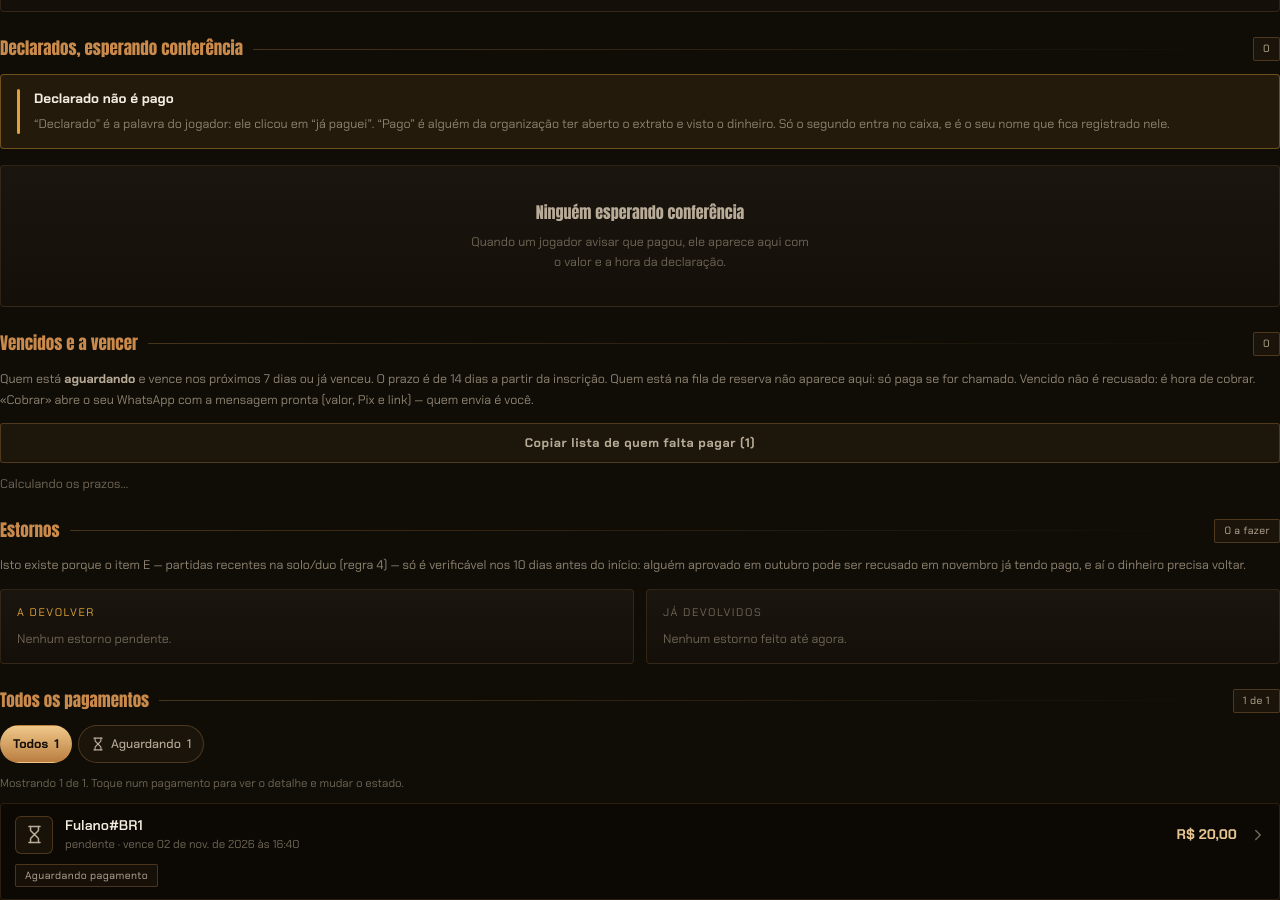
Test: a folha do pagamento no celular › troca recusada pelo servidor: o motivo aparece DENTRO da folha, que cobre o aviso do topo
(page scrolled)
Click the button with aria-label "Abrir o pagamento de Fulano#BR1".
click(104, 825)  # box left=65, top=816, right=1164, bottom=834
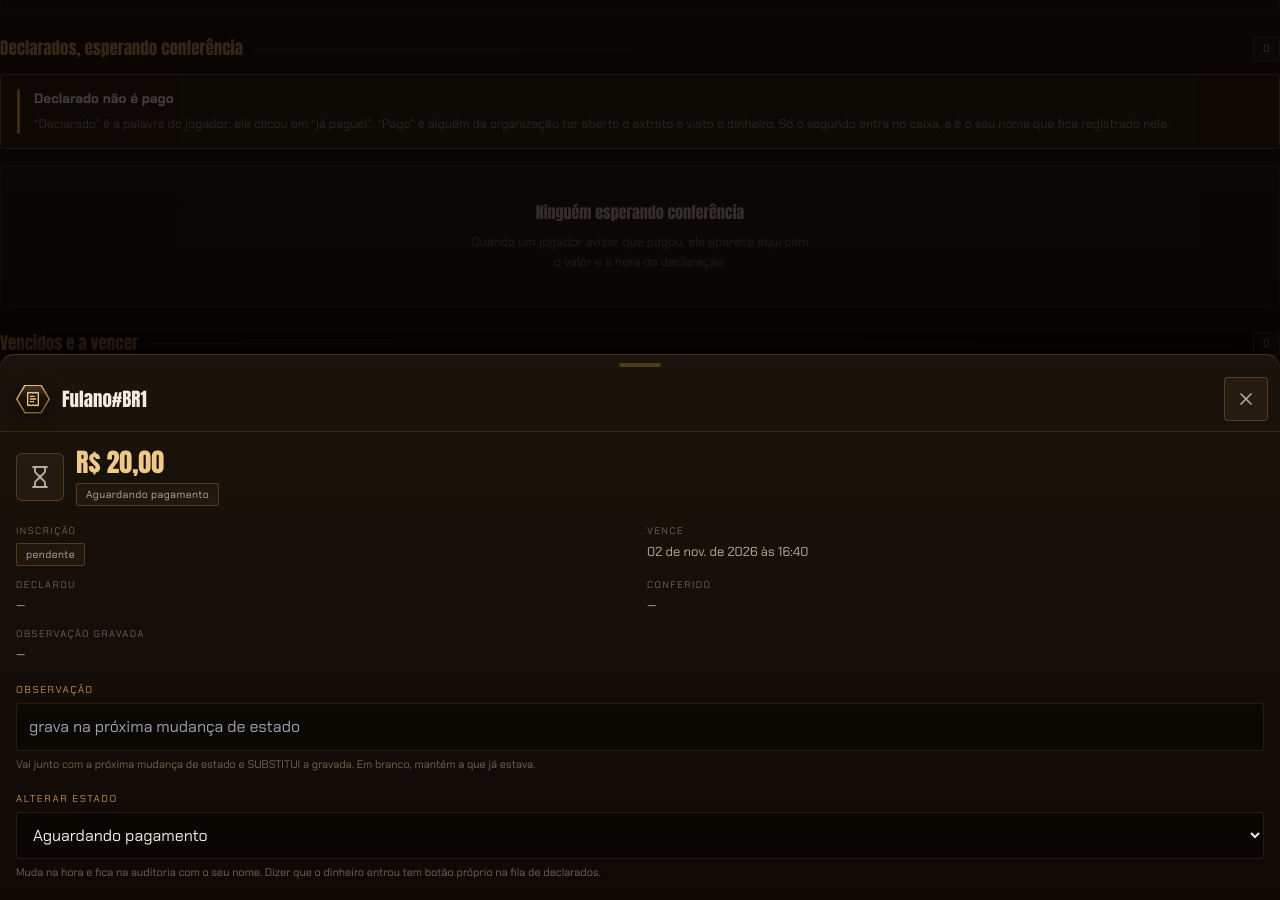
Select "Estorno devido" in the dropdown named "Estado do pagamento de Fulano#BR1" at [640, 835], box left=16, top=812, right=1264, bottom=858
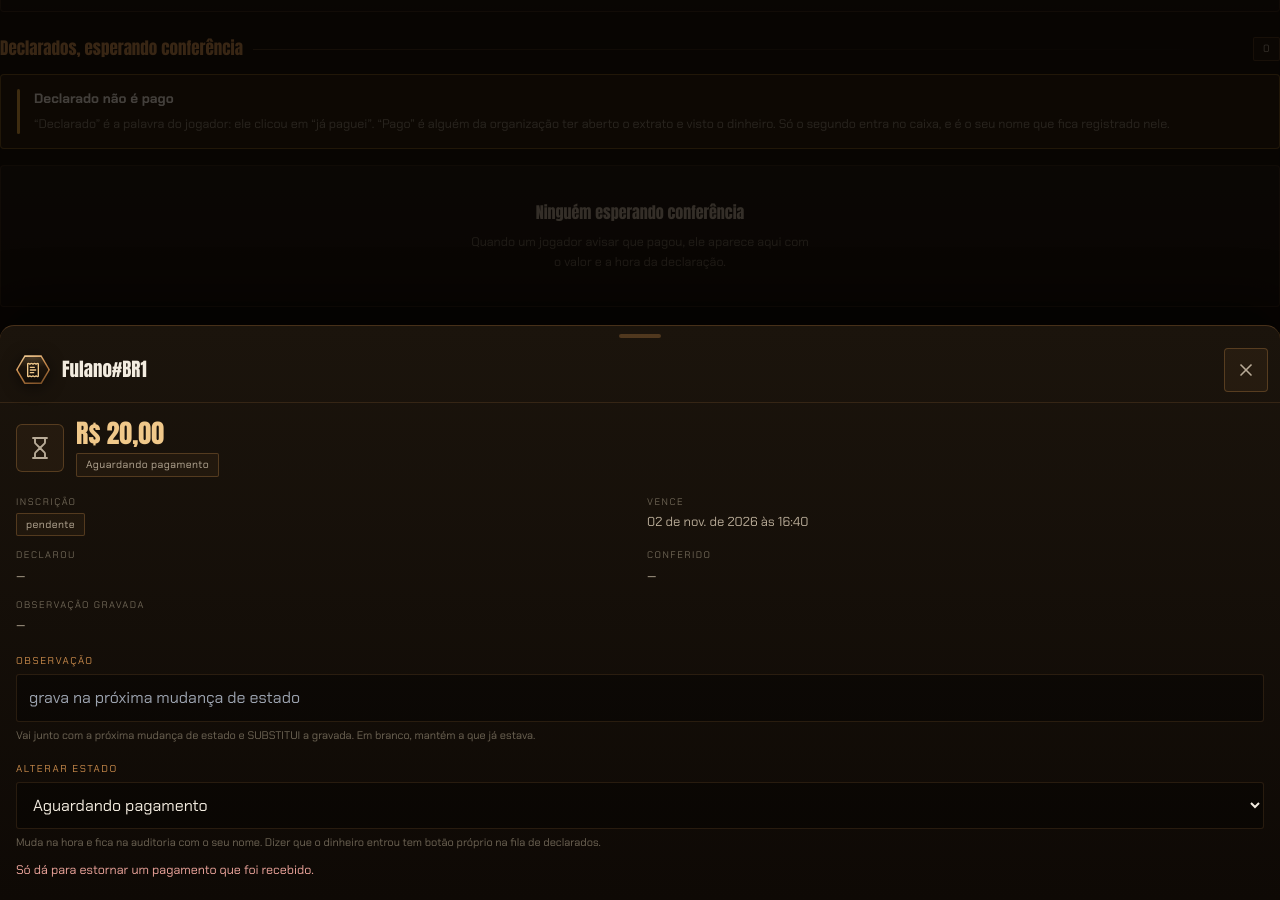
expect the message shows "Só dá para estornar": met, box left=16, top=862, right=314, bottom=878
